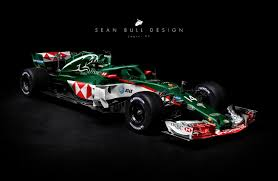f1_car: (14, 49, 266, 146)
